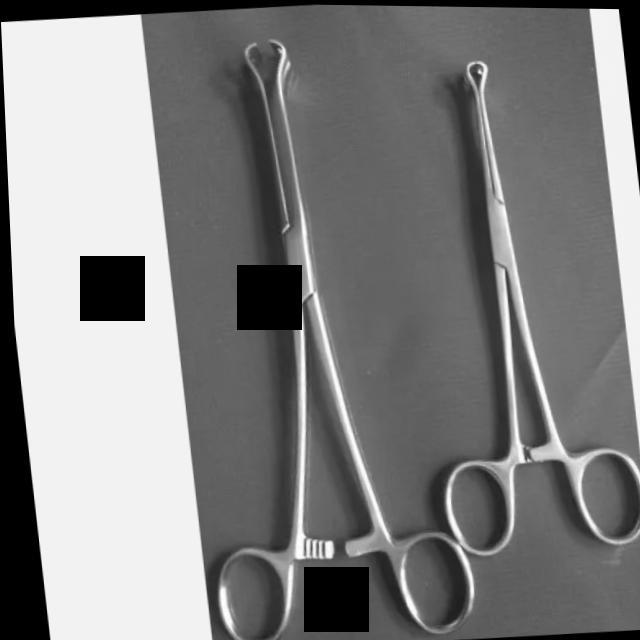Babcock Forceps: (148, 17, 476, 640), (390, 41, 640, 561)
